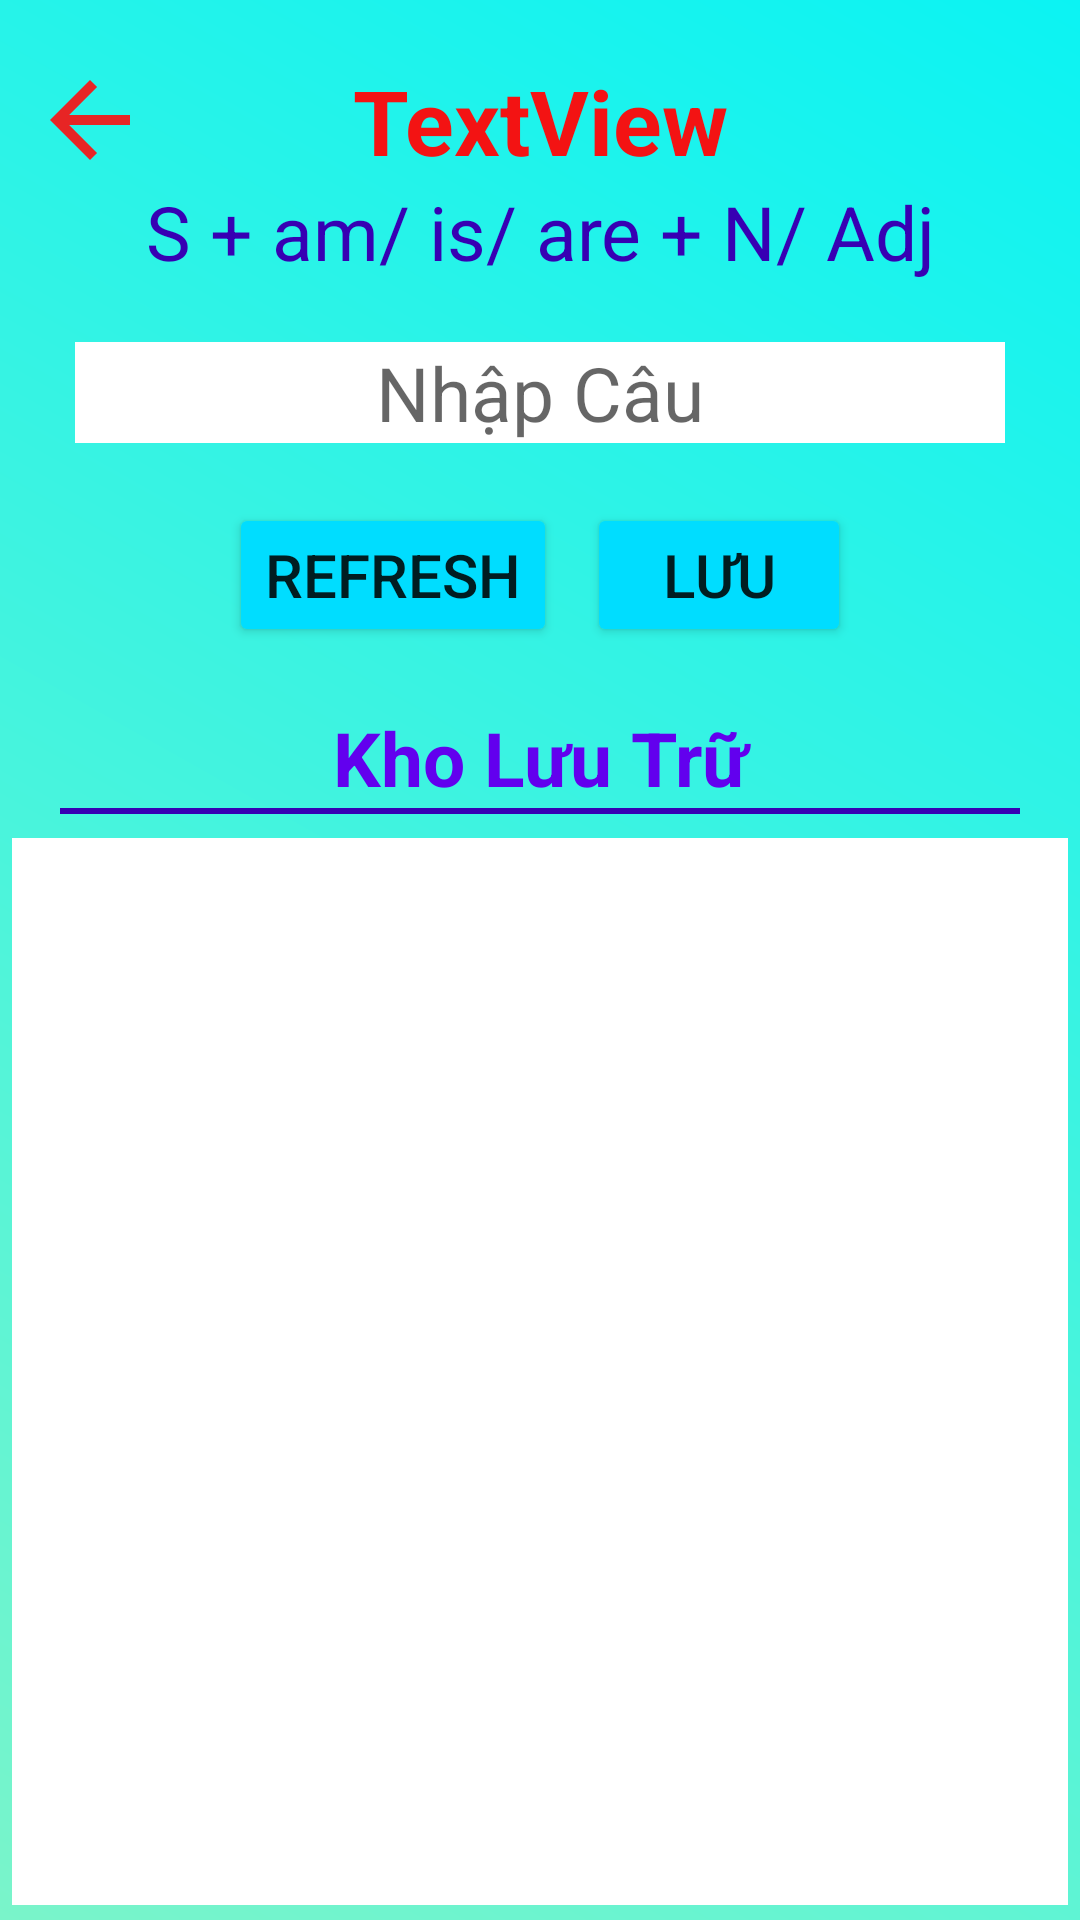

Icons on this 1080px x 1920px Android screen, each with its box as (x1, y1, x2, y2):
arrow back: (50, 80, 130, 160)
